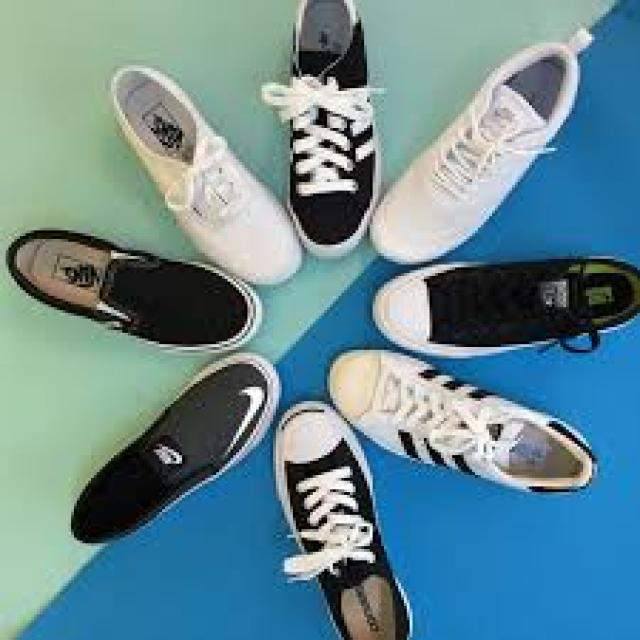shoes: (364, 45, 591, 272), (100, 60, 310, 296), (324, 328, 599, 508), (71, 345, 284, 548), (269, 398, 418, 640), (2, 226, 266, 355), (371, 253, 640, 356), (283, 0, 382, 263)
